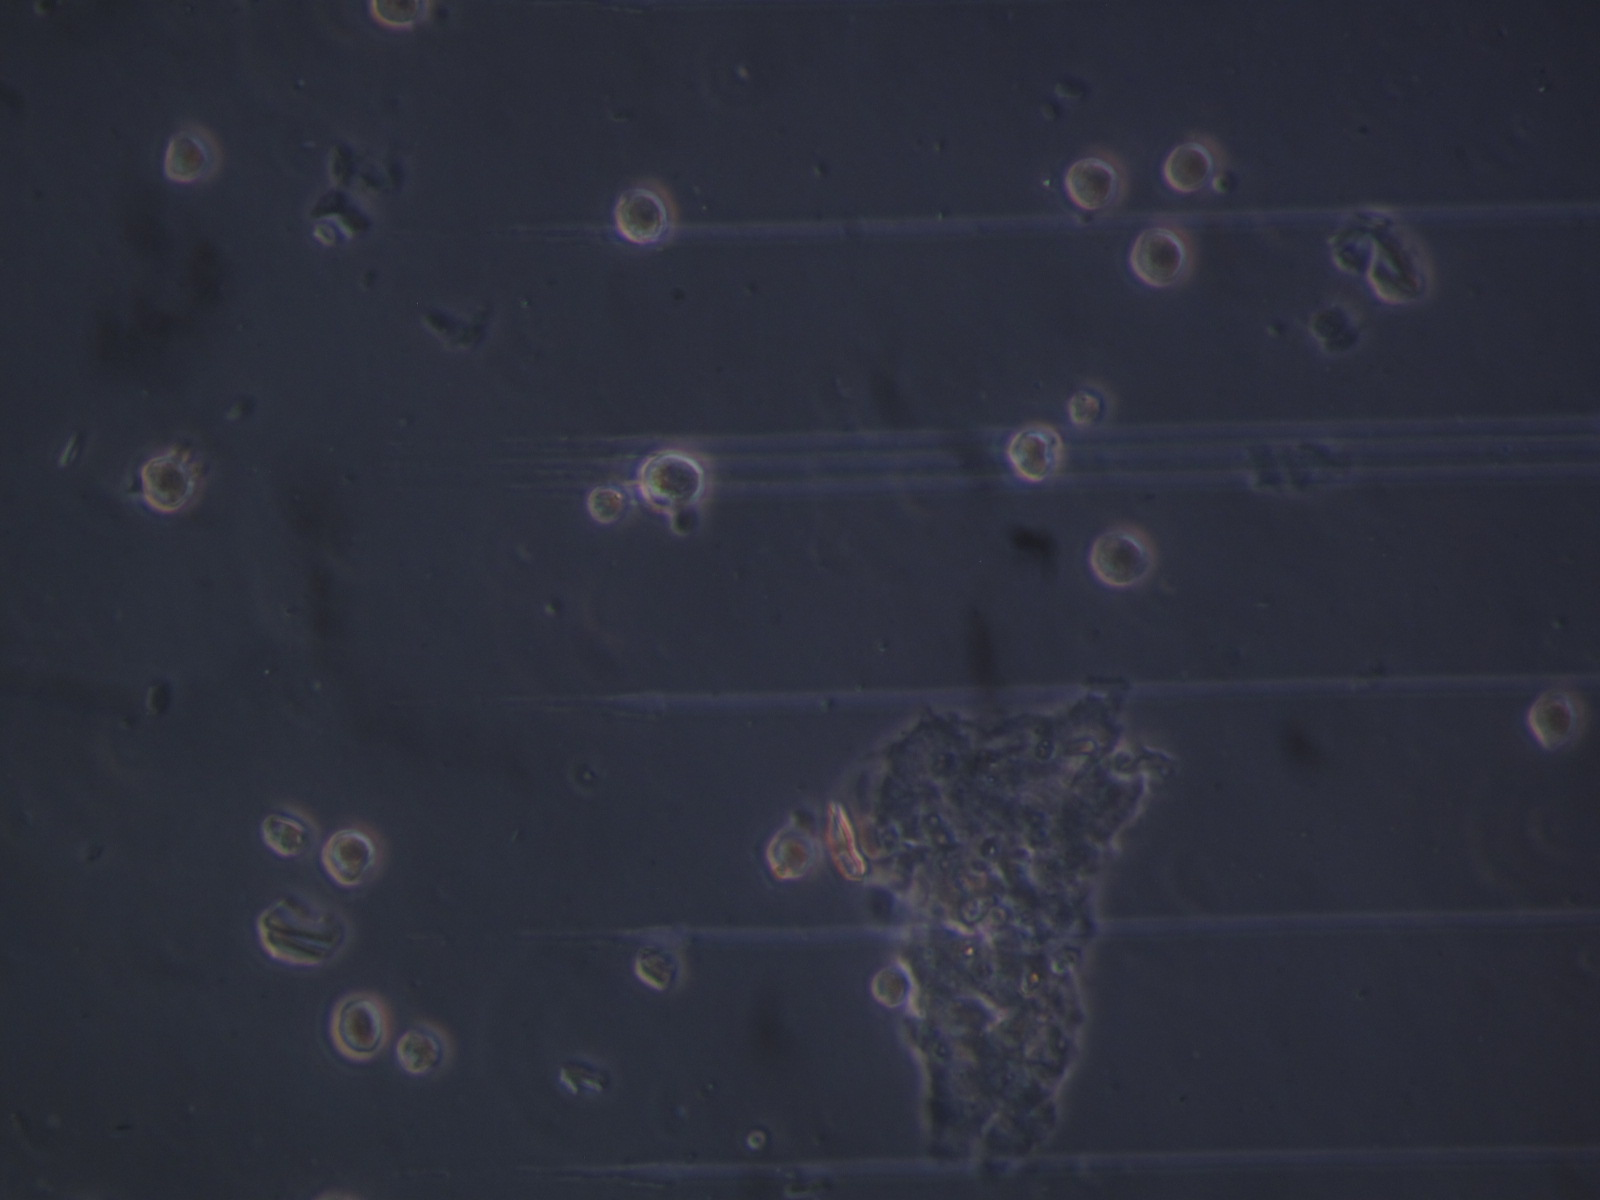hemo: (637, 445, 711, 516), (1066, 142, 1133, 219), (1091, 518, 1160, 587), (614, 174, 677, 250), (1133, 217, 1196, 287), (325, 818, 386, 891), (140, 454, 208, 517), (1162, 129, 1227, 193), (333, 992, 391, 1063), (261, 800, 323, 865), (396, 1017, 455, 1080), (164, 122, 220, 185), (1008, 421, 1060, 484), (765, 822, 816, 882), (635, 942, 688, 998), (1066, 379, 1117, 434), (1528, 689, 1579, 742), (872, 962, 910, 1008), (586, 484, 627, 526), (370, 1, 425, 28)
